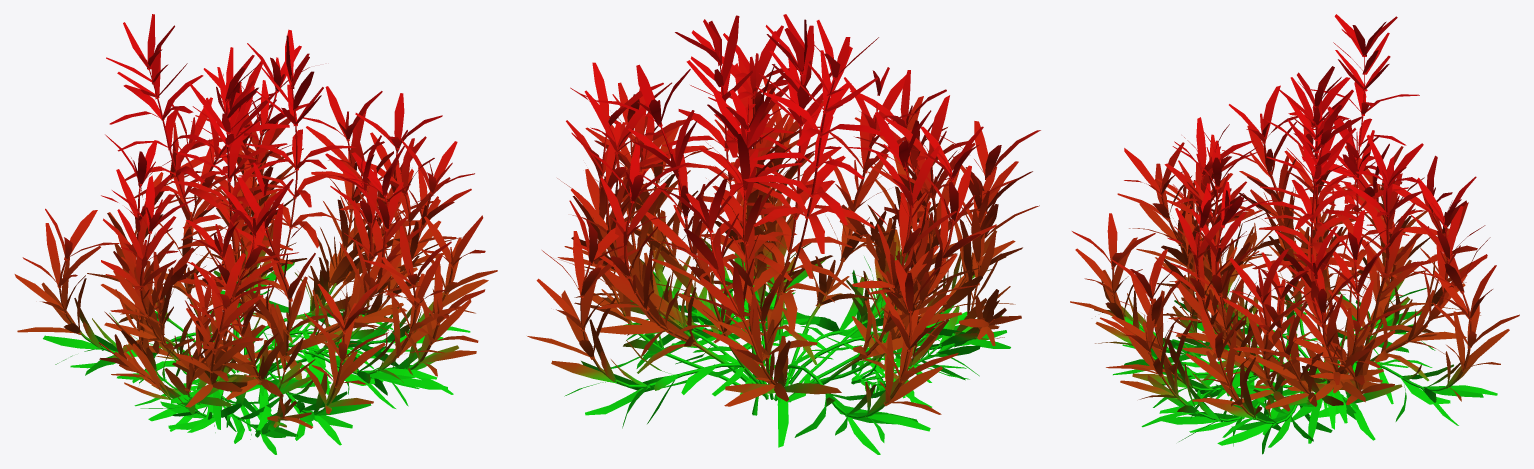
The model's file is Var7_LOD2.fbx.
3 views of the same model, side by side, from view 1: azimuth 30°, elevation 25°; view 2: azimuth 150°, elevation 25°; view 3: azimuth 270°, elevation 25° (orthographic). The views are drawn at different scales.
Visible parts, largest first — view 1: _vf40_Var7_LOD2; view 2: _vf40_Var7_LOD2; view 3: _vf40_Var7_LOD2.
Boxes of the visible parts, x1,y1,x2,y2 form: _vf40_Var7_LOD2: (14, 14, 497, 454); _vf40_Var7_LOD2: (527, 14, 1040, 454); _vf40_Var7_LOD2: (1070, 14, 1519, 454).
Size of the model in its own units: 35.29 by 32.55 by 36.68.
